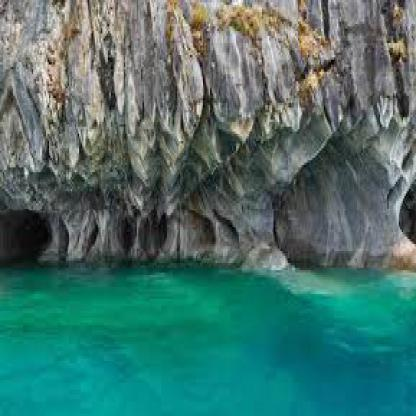Metamorphic_Marble: (118, 7, 202, 187), (207, 5, 266, 189), (320, 12, 408, 134)
